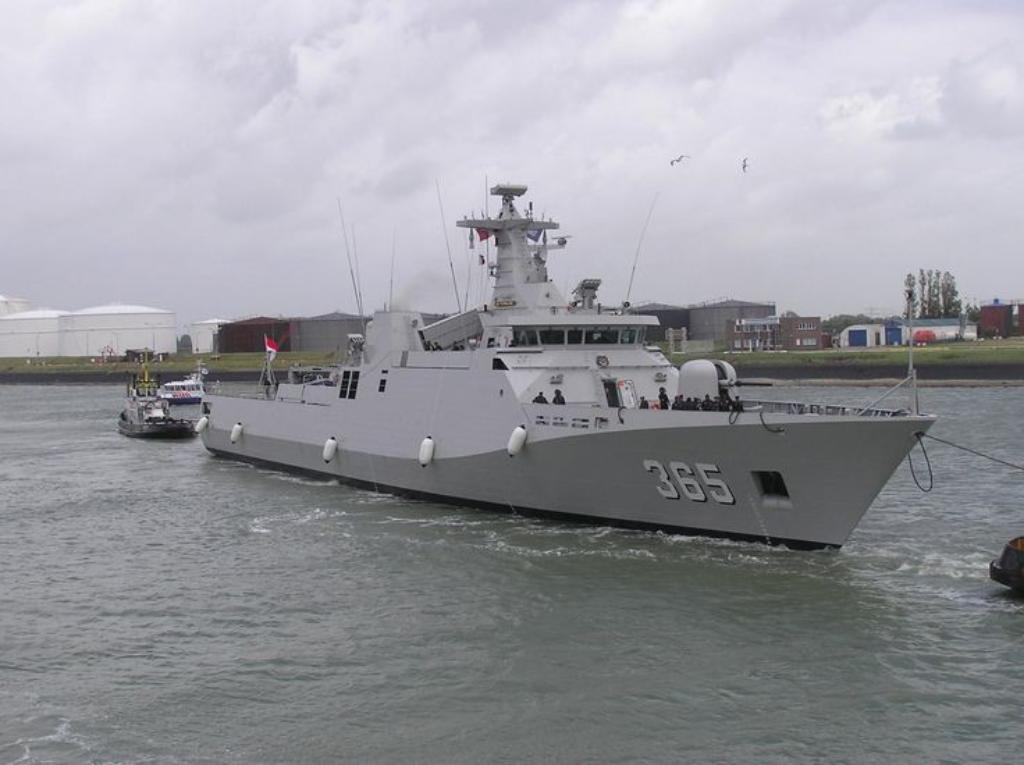Warship: (198, 181, 938, 553)
